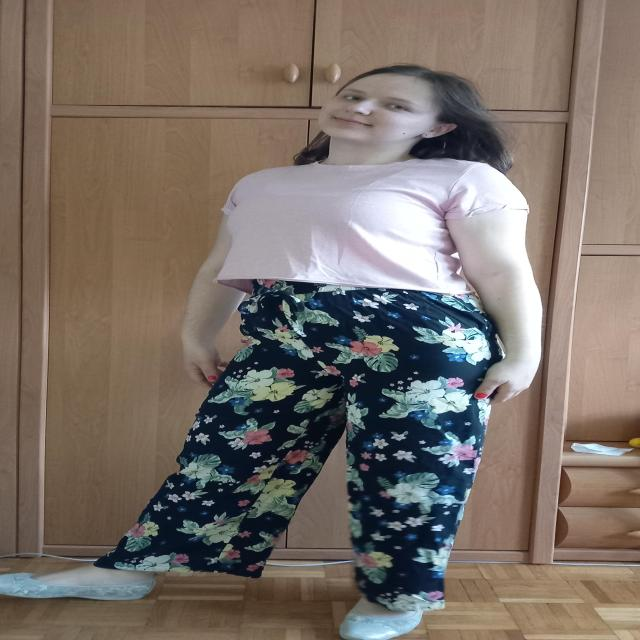Tshirt: (214, 160, 531, 296)
pants: (95, 280, 505, 614)
